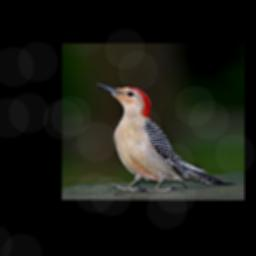Woodpecker: (93, 80, 236, 192)
